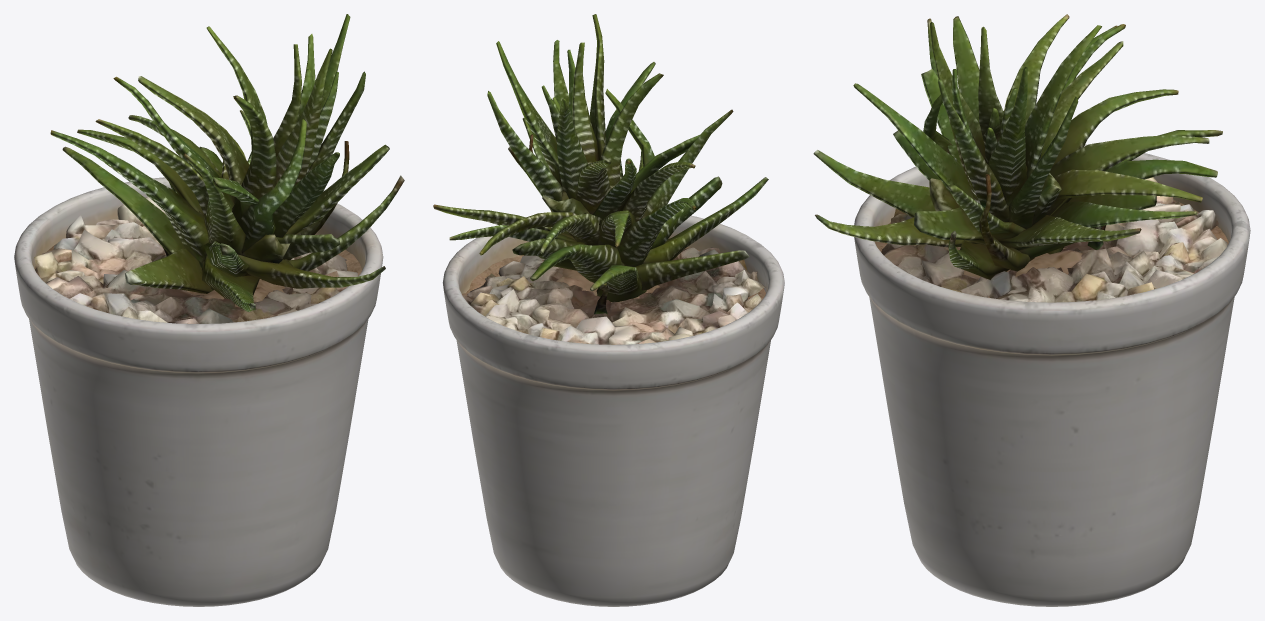
File: plant-succulent-1a9ec47ebc.glb
3 renders of one model, left to right at view 1: azimuth 30°, elevation 25°; view 2: azimuth 150°, elevation 25°; view 3: azimuth 270°, elevation 25°, orthographic. The views are drawn at different scales.
Parts seen in each view (by area): view 1: potted_plant_04_ground; view 2: potted_plant_04_ground; view 3: potted_plant_04_ground.
Part boxes in pixels (left/top/right/bottom): potted_plant_04_ground: left=14, top=14, right=404, bottom=606; potted_plant_04_ground: left=433, top=14, right=784, bottom=606; potted_plant_04_ground: left=813, top=14, right=1250, bottom=606.
Bounding box in the file's own units: 0.1679 × 0.2675 × 0.1847.
Materials: 1 (1 with a texture image).
